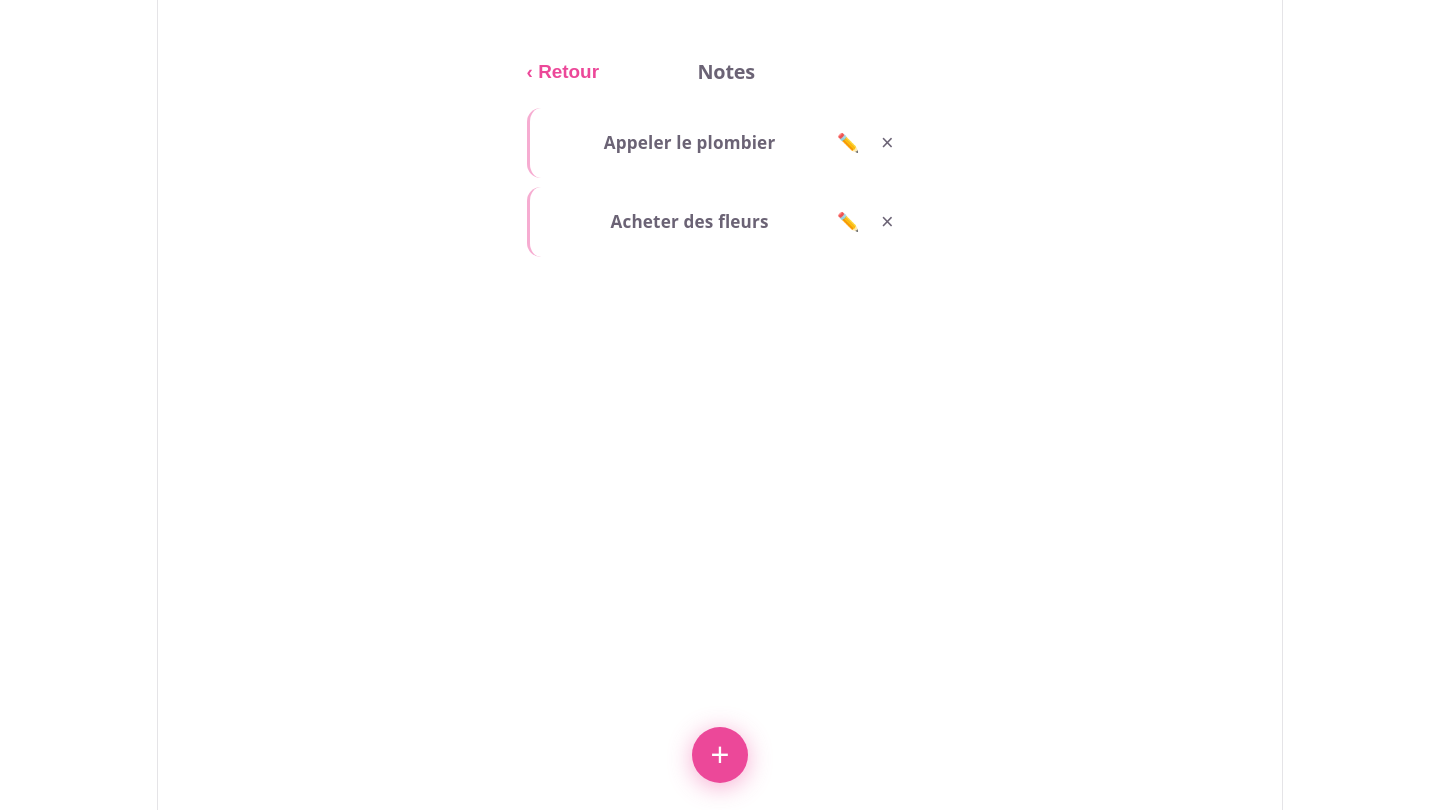
Test case: NotesPage › hides edit textarea when cancel is clicked
Click the button named "éditer" at [848, 143], box [832,127,865,159]
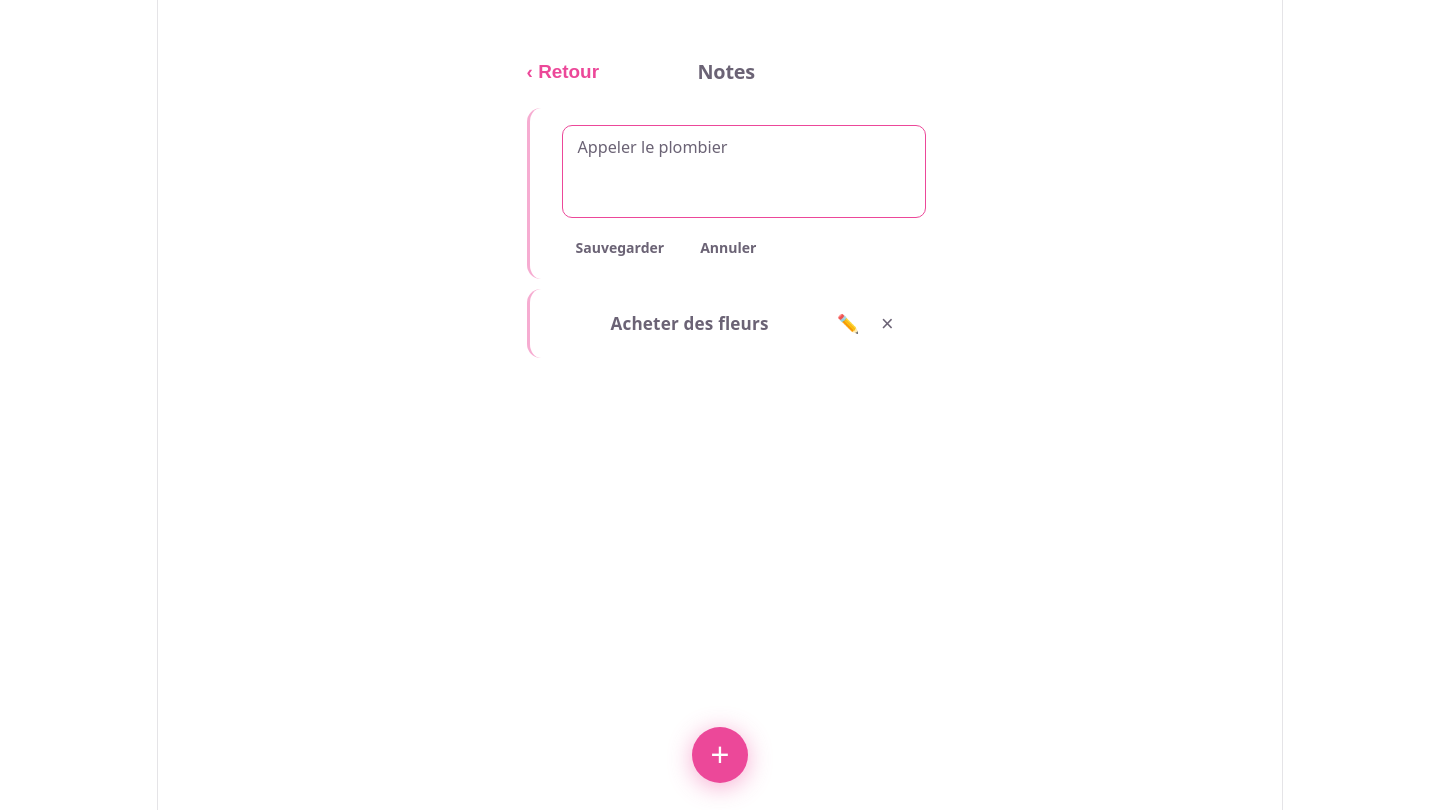
Expected: the text box named "modifier" is shown, [562,125,926,218]
Click the button "Annuler" at [728, 247], box [687,231,770,263]
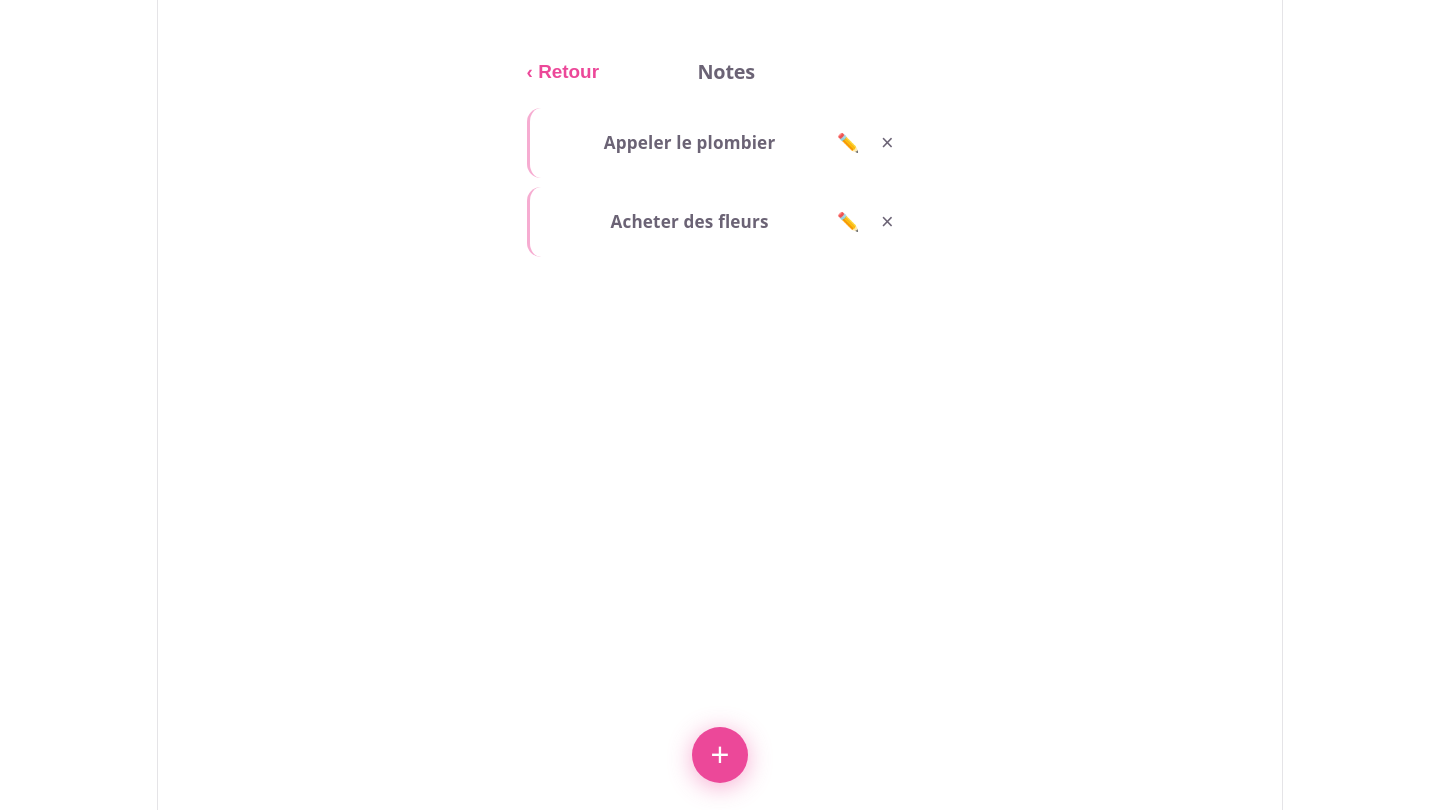
Expected: the text box labelled "modifier" is gone
